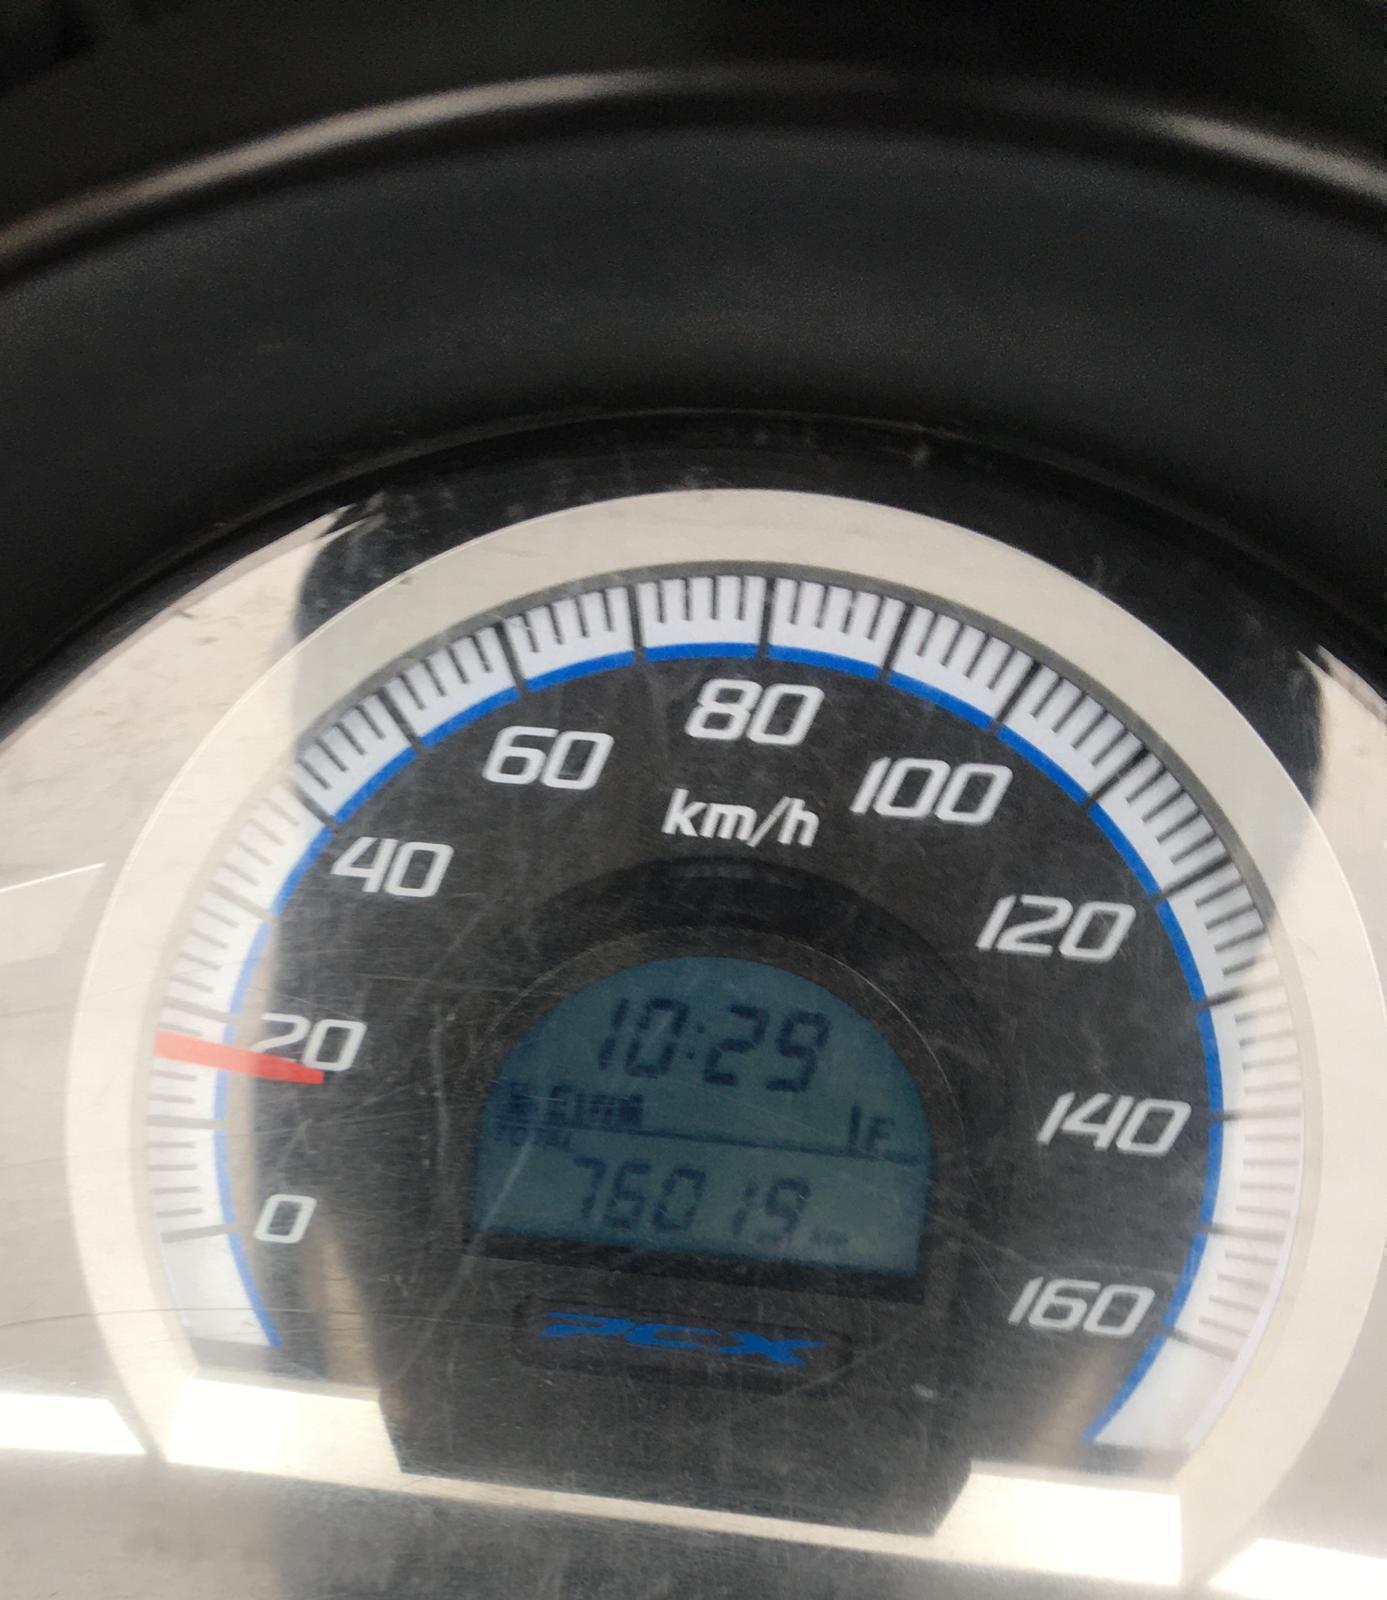0: (630, 992, 687, 1079), (657, 1161, 711, 1234)
1: (593, 986, 629, 1071), (724, 1166, 760, 1248)
2: (705, 995, 769, 1097)
6: (603, 1152, 652, 1233)
7: (568, 1154, 608, 1220)
9: (766, 1001, 822, 1095), (755, 1169, 810, 1259)
X: (863, 1112, 897, 1150), (544, 1079, 572, 1117), (687, 1016, 706, 1068), (544, 1125, 562, 1154), (528, 1122, 542, 1155), (564, 1127, 578, 1155), (490, 1120, 509, 1141), (509, 1124, 528, 1146)
odometer: (427, 901, 981, 1297)
